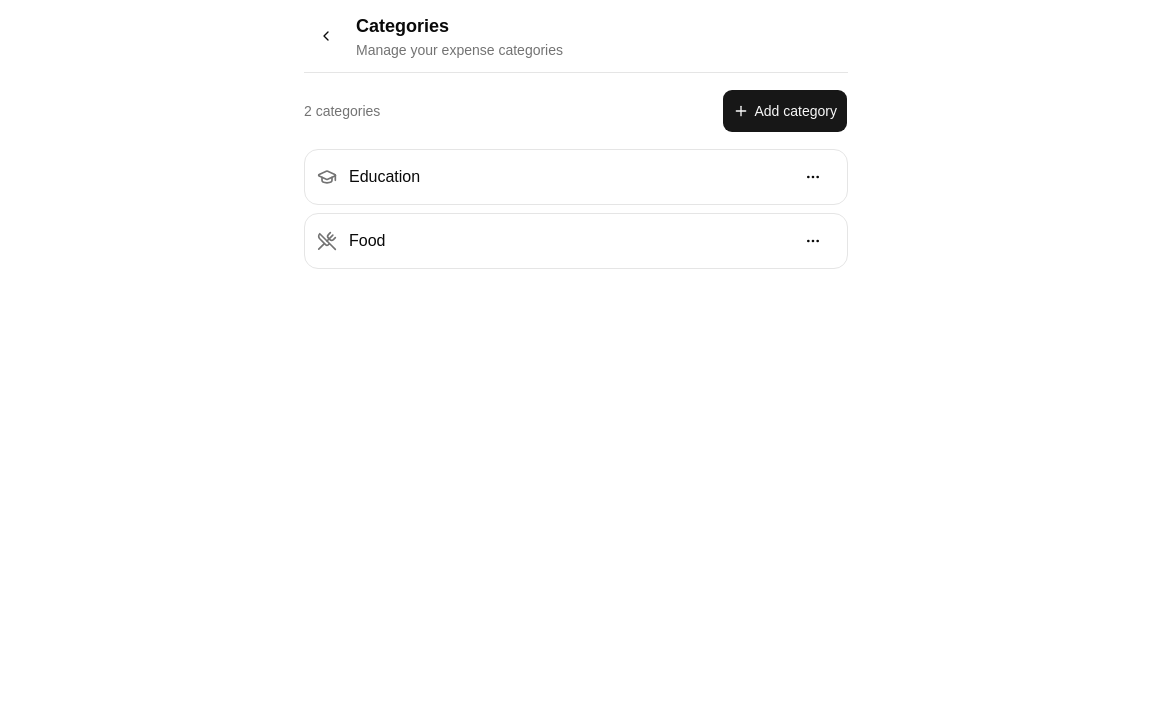
Test: category management › confirms deletion with the history consequence and refreshes with a success notice
This screenshot has width=1152, height=720.
Click the button named "Actions for Education".
click(813, 177)  # box [791, 155, 835, 199]
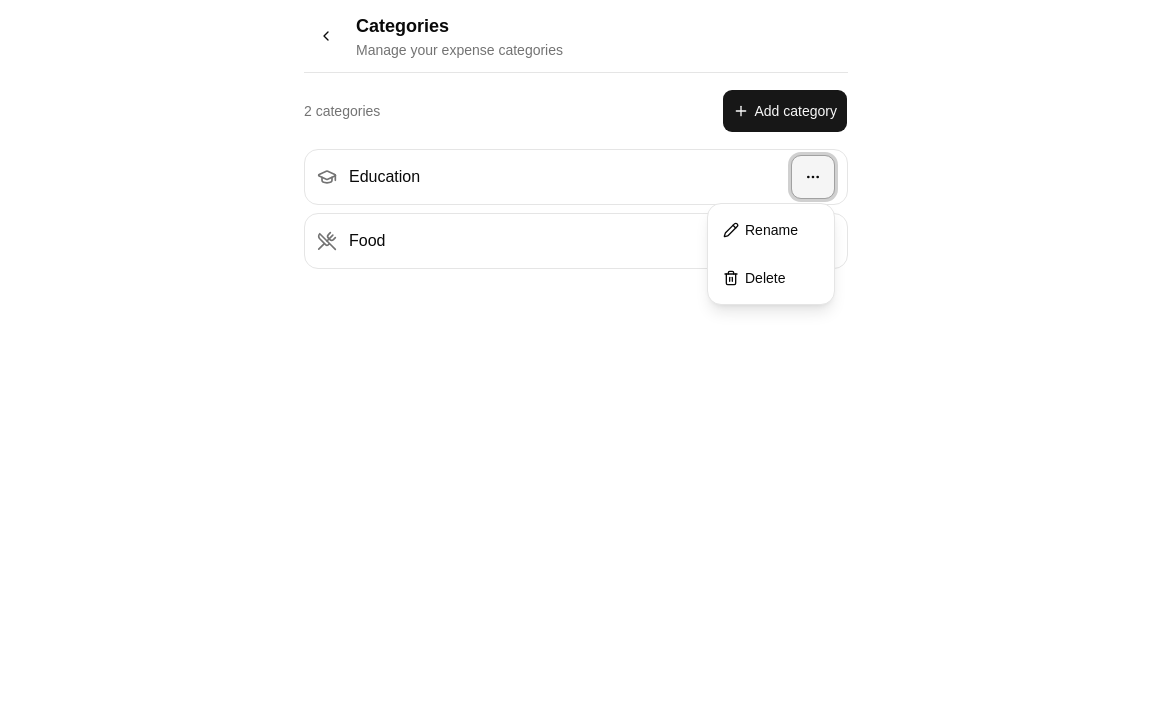
Click the button "Delete".
click(771, 278)  # box [712, 256, 830, 300]
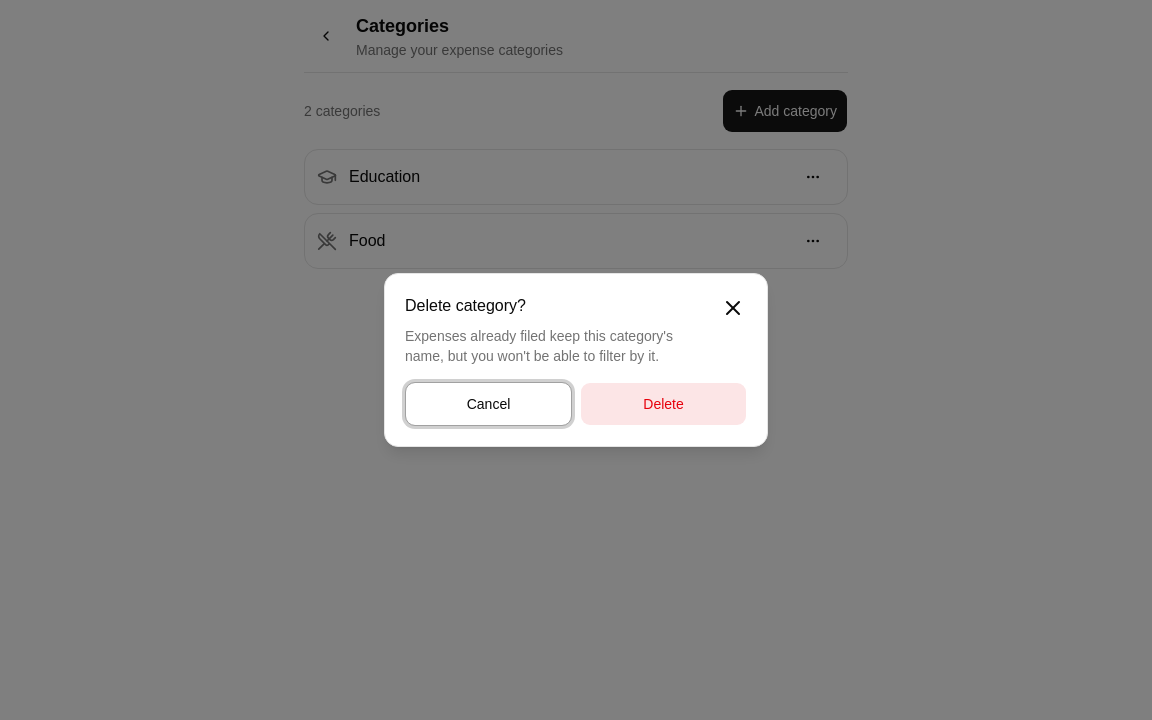
Check: the heading "Delete category?" is shown, box [405, 297, 526, 314]
Check: the text "Expenses already filed keep this category's name, but you won't be able to filter by it." is shown, box [405, 328, 673, 364]
Click the button "Delete".
click(664, 404)  # box [580, 382, 747, 426]
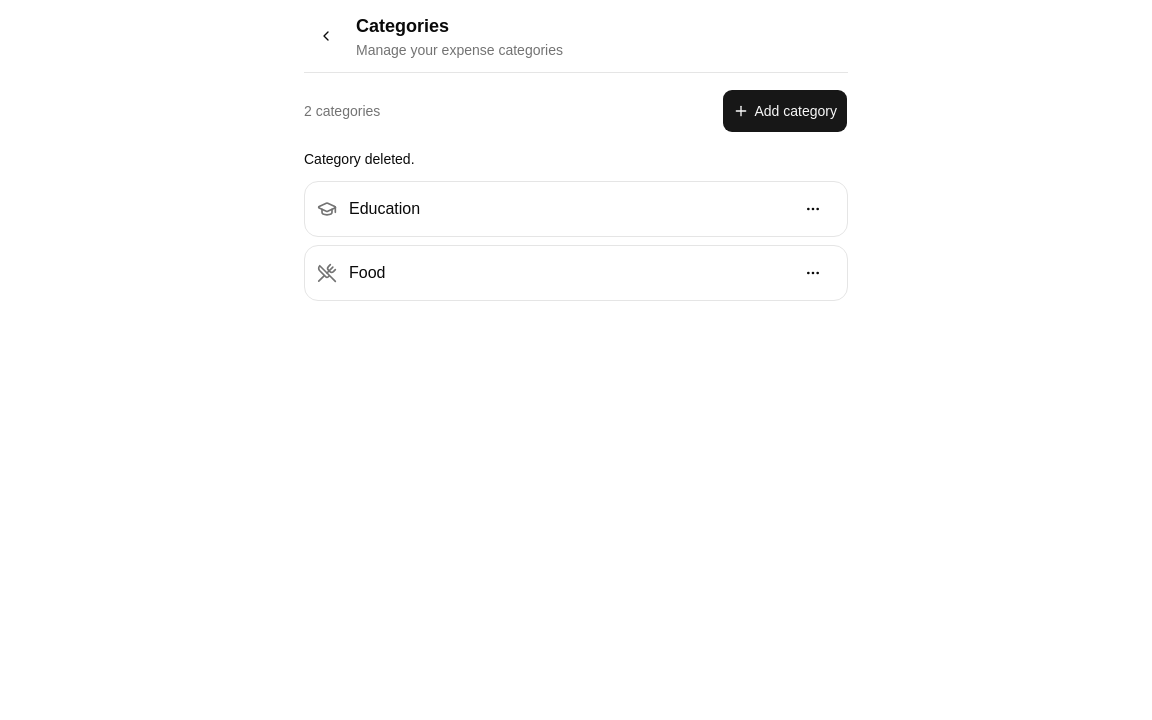
Check: the text "Category deleted." is shown, box [304, 151, 414, 167]
